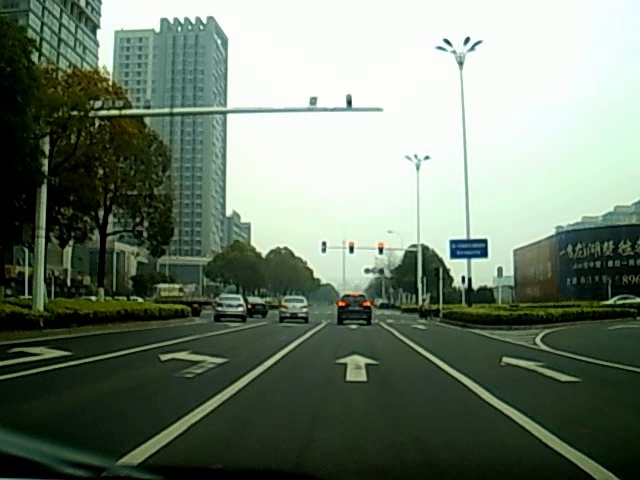Traffic_Light_stop: (348, 243, 356, 255), (378, 242, 384, 256)
